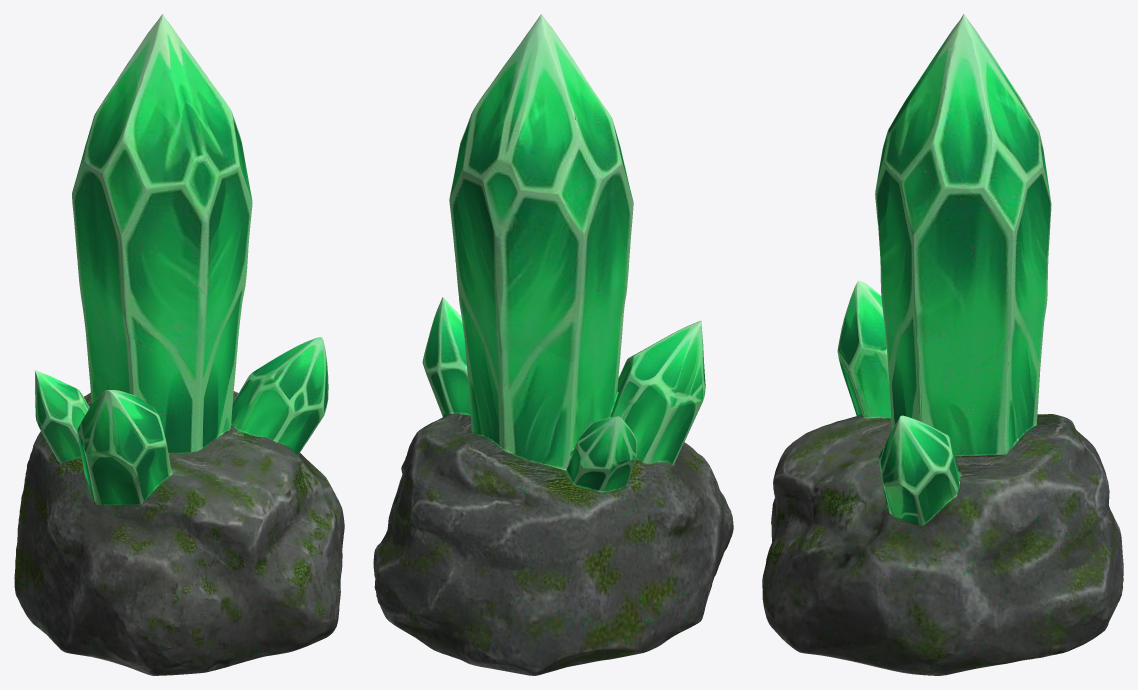
Rendered from et_vein3.glb.
The picture shows the model from 3 angles, left to right: view 1: azimuth 30°, elevation 25°; view 2: azimuth 150°, elevation 25°; view 3: azimuth 270°, elevation 25°; orthographic projection. The views are drawn at different scales.
Bounding box in the file's own units: 0.9503 × 1.9 × 1.04.
1 material, 1 textured.
